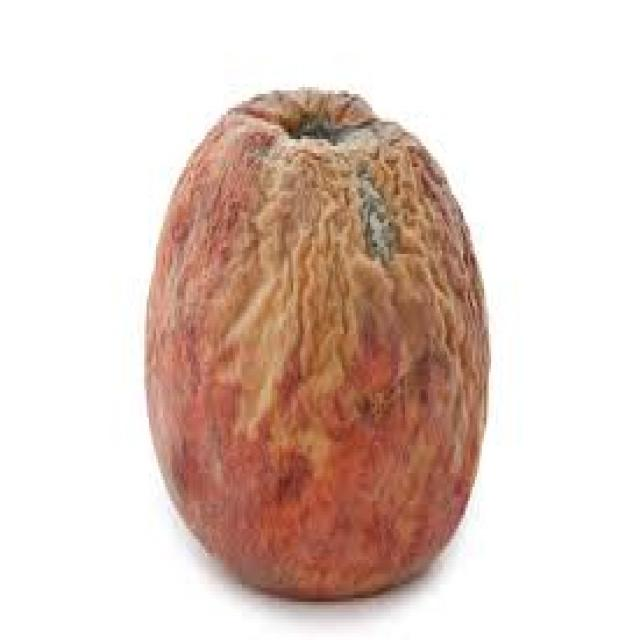organic waste: (142, 80, 489, 595)
